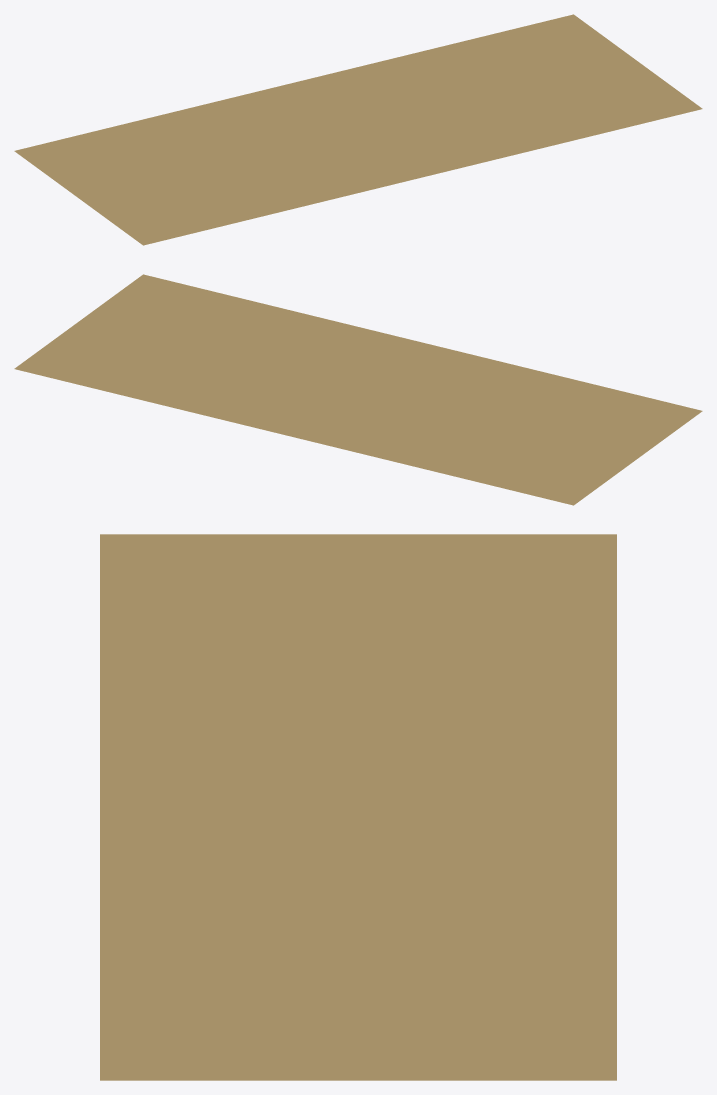
File: dockroad.glb
3 views of the same model, one above another, from view 1: azimuth 30°, elevation 25°; view 2: azimuth 150°, elevation 25°; view 3: azimuth 270°, elevation 25° (orthographic). The views are drawn at different scales.
Parts seen in each view (by area): view 1: dockroad; view 2: dockroad; view 3: dockroad.
Part boxes in pixels (x1,y1,x2,y2): dockroad: [14, 14, 702, 245]; dockroad: [14, 274, 702, 505]; dockroad: [100, 534, 616, 1080].
Size of the model in its own units: 10 by 0 by 4.
